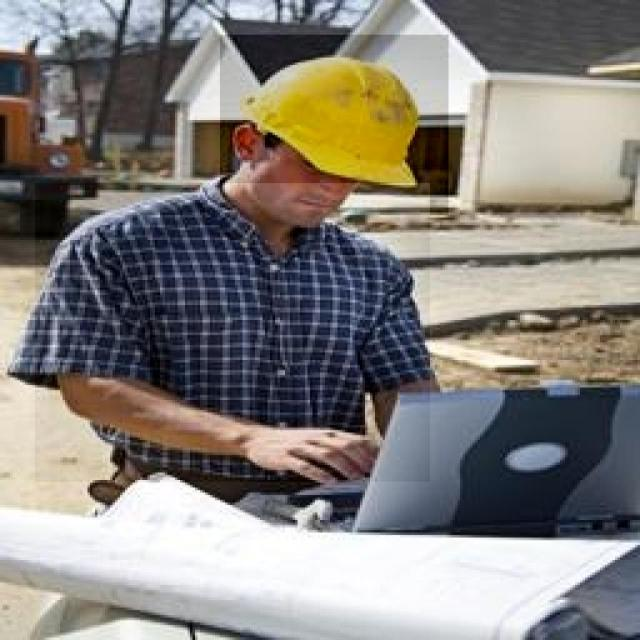Helmet: (35, 183, 430, 482), (220, 35, 448, 215)
